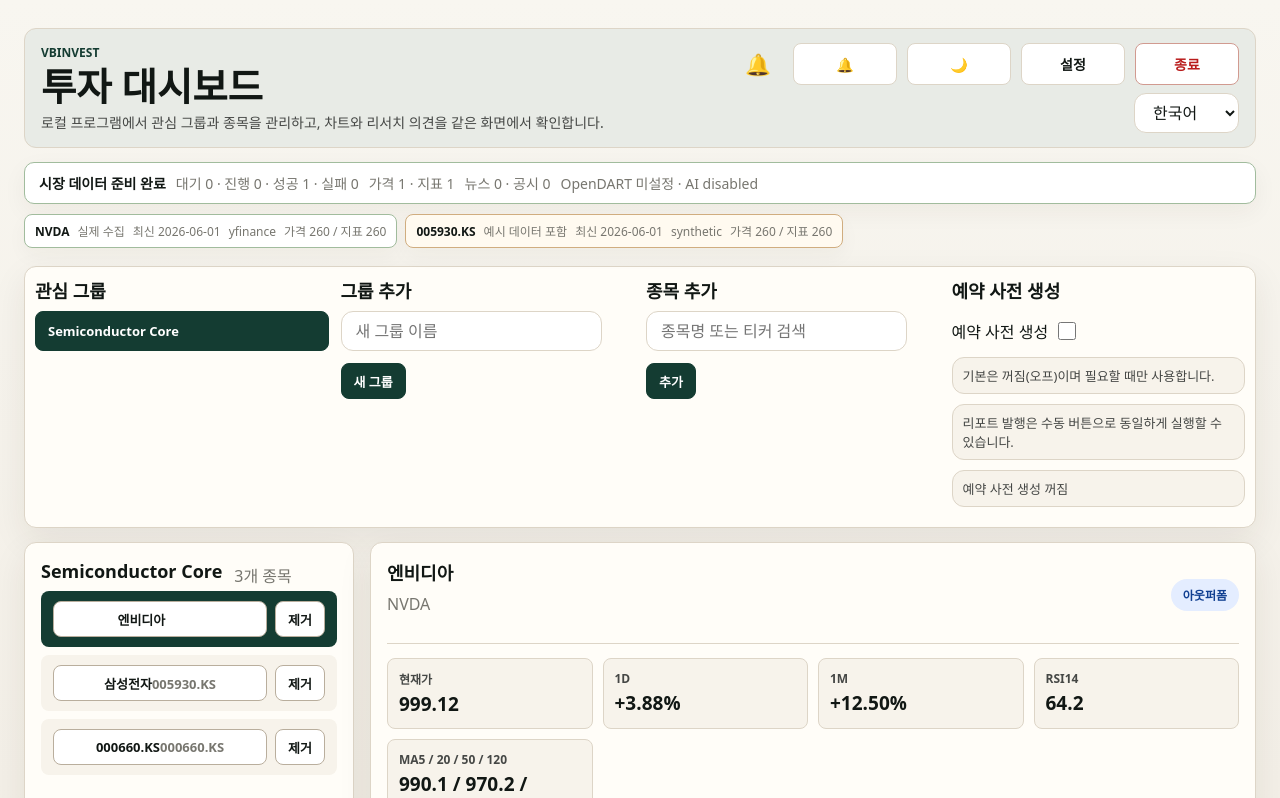
Test: WatchlistDashboard › shows ticker autocomplete suggestions while typing Korean company prefixes
Expected: the button "새 그룹" is enabled, [340, 363, 406, 399]
Type "삼" into the field named "새 종목 심볼". click: (776, 331)
box: [646, 311, 907, 351]
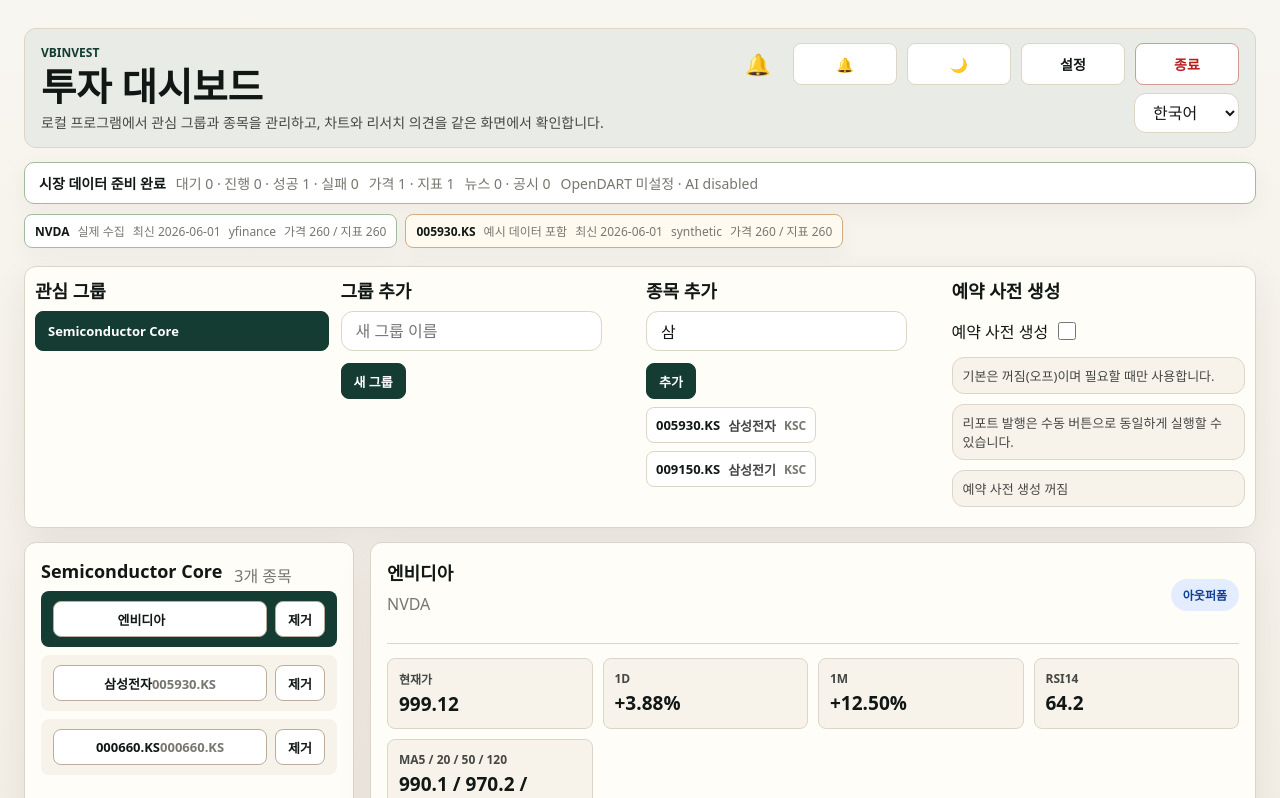
Expected: the button "005930.KS 삼성전자 KSC" is shown, [646, 407, 816, 443]
Expected: the button "009150.KS 삼성전기 KSC" is shown, [646, 451, 816, 487]
